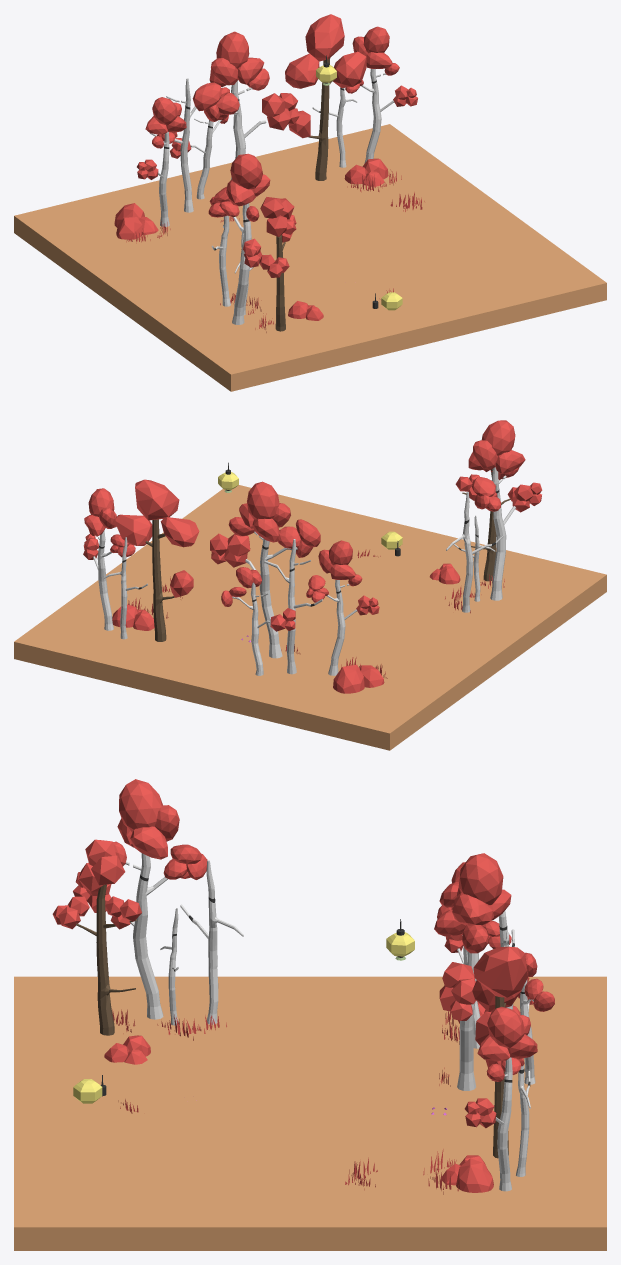
3 views of the same model, one above another, from view 1: azimuth 30°, elevation 25°; view 2: azimuth 150°, elevation 25°; view 3: azimuth 270°, elevation 25° (orthographic). The views are drawn at different scales.
Bounding box in the file's own units: 13.41 × 6.81 × 13.41.
